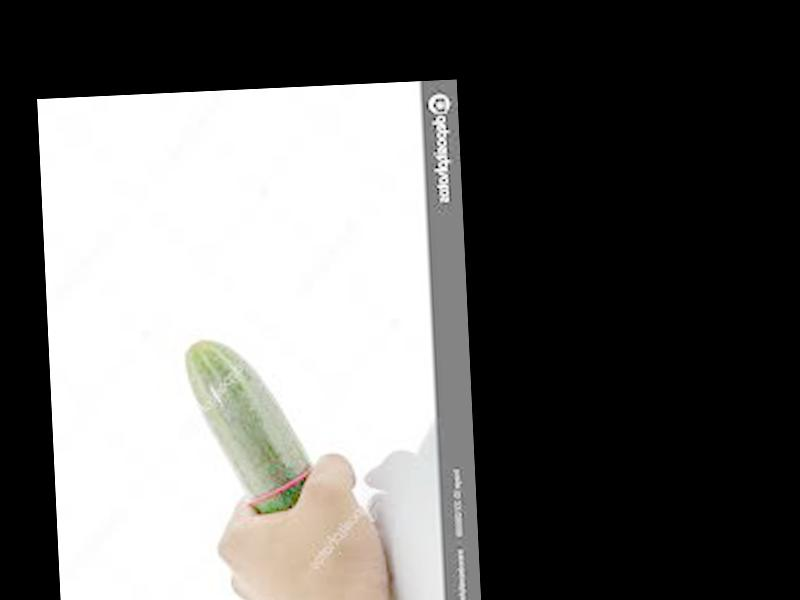Cucumber: (184, 335, 312, 517)
